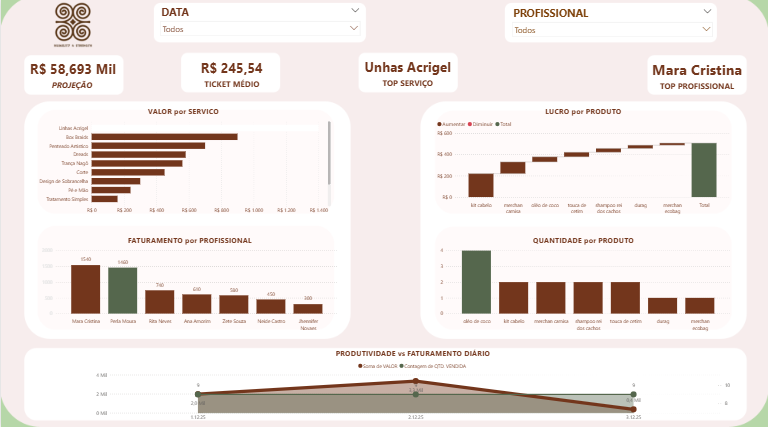

The page's visual inventory and layout, read from the dashboard file:
{"tool":"powerbi","page":{"name":"RESULTADOS","canvas":[1920,1080],"ordinal":0},"visuals":[{"type":"slicer","fields":{"Values":["atendimentos.DATA"]},"box":[386.8,13.2,521.1,86.8],"z":0},{"type":"card","fields":{"Values":["calculos.Projeção de Faturamento"]},"box":[52.6,144.7,255.3,97.4],"z":1000},{"type":"card","fields":{"Values":["Calendario.Ticket Médio Geral"]},"box":[439.5,139.5,273.7,102.6],"z":2000},{"type":"barChart","fields":{"Category":["atendimentos.SERVICO"],"Y":["Sum(atendimentos.VALOR)"]},"box":[82.5,272.5,747.5,280],"z":3000},{"type":"image","box":[52.6,10.5,255.3,118.4],"z":4000},{"type":"waterfallChart","title":"LUCRO por PRODUTO","fields":{"Y":["vendas.Lucro por Produto"],"Category":["vendas.PRODUTO"]},"box":[1084.2,273.7,742.1,278.9],"z":5000},{"type":"card","fields":{"Values":["Calendario.Top_Profissional_Nome"]},"box":[1610.5,144.7,260.5,97.4],"z":6000},{"type":"card","fields":{"Values":["Calendario.Top_Servico"]},"box":[878.9,139.5,273.7,97.4],"z":7000},{"type":"clusteredColumnChart","title":"FATURAMENTO por PROFISSIONAL","fields":{"Category":["atendimentos.PROFISSIONAL"],"Y":["Sum(atendimentos.VALOR)"]},"box":[97.5,595,750,247.5],"z":8000},{"type":"clusteredColumnChart","title":"QUANTIDADE por PRODUTO","fields":{"Category":["vendas.PRODUTO"],"Y":["Sum(vendas.QTD.)"]},"box":[1085,595,742.5,247.5],"z":9000},{"type":"slicer","fields":{"Values":["atendimentos.PROFISSIONAL"]},"box":[1268.4,15.8,522,87],"z":10000},{"type":"areaChart","title":"PRODUTIVIDADE vs FATURAMENTO DIÁRIO","fields":{"Category":["atendimentos.DATA"],"Y":["Sum(atendimentos.VALOR)"],"Y2":["CountNonNull(estoque.QTD. VENDIDA)"]},"box":[231.6,876.3,1594.7,192.1],"z":11000}]}

Visuals, with their boxes in screenshot pixels (x1, y1, x2, y2), scaled from the page's 1920x1080 canvas onto the 768x427 screenshot:
slicer - atendimentos.DATA: <bbox>155, 5, 363, 40</bbox>
card - calculos.Projeção de Faturamento: <bbox>21, 57, 123, 96</bbox>
card - Calendario.Ticket Médio Geral: <bbox>176, 55, 285, 96</bbox>
barChart - atendimentos.SERVICO x Sum(atendimentos.VALOR): <bbox>33, 108, 332, 218</bbox>
image: <bbox>21, 4, 123, 51</bbox>
"LUCRO por PRODUTO" waterfallChart: <bbox>434, 108, 731, 218</bbox>
card - Calendario.Top_Profissional_Nome: <bbox>644, 57, 748, 96</bbox>
card - Calendario.Top_Servico: <bbox>352, 55, 461, 94</bbox>
"FATURAMENTO por PROFISSIONAL" clusteredColumnChart: <bbox>39, 235, 339, 333</bbox>
"QUANTIDADE por PRODUTO" clusteredColumnChart: <bbox>434, 235, 731, 333</bbox>
slicer - atendimentos.PROFISSIONAL: <bbox>507, 6, 716, 41</bbox>
"PRODUTIVIDADE vs FATURAMENTO DIÁRIO" areaChart: <bbox>93, 346, 731, 422</bbox>
